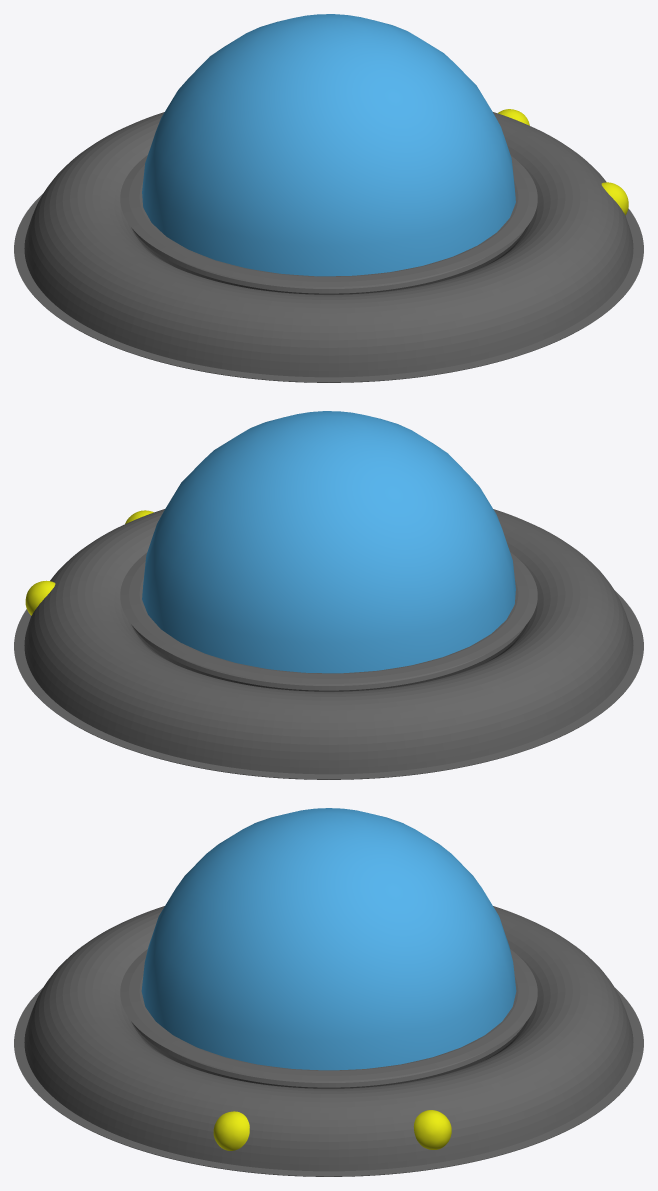
Rendered from Ufo.fbx.
3 renders of one model, top to bottom at view 1: azimuth 30°, elevation 25°; view 2: azimuth 150°, elevation 25°; view 3: azimuth 270°, elevation 25°, orthographic.
Visible parts, largest first — view 1: Torus, Sphere; view 2: Torus, Sphere, Icosphere.006; view 3: Torus, Sphere, Icosphere.006, Icosphere.
Part boxes in pixels (<box>): Torus: <box>14,112,643,382</box>; Sphere: <box>142,14,515,276</box>; Torus: <box>14,509,643,779</box>; Sphere: <box>142,411,515,673</box>; Icosphere.006: <box>25,580,55,615</box>; Torus: <box>14,906,643,1176</box>; Sphere: <box>141,808,516,1070</box>; Icosphere.006: <box>413,1110,451,1149</box>; Icosphere: <box>213,1111,249,1150</box>.
Bounding box in the file's own units: 309 × 118 × 309.
